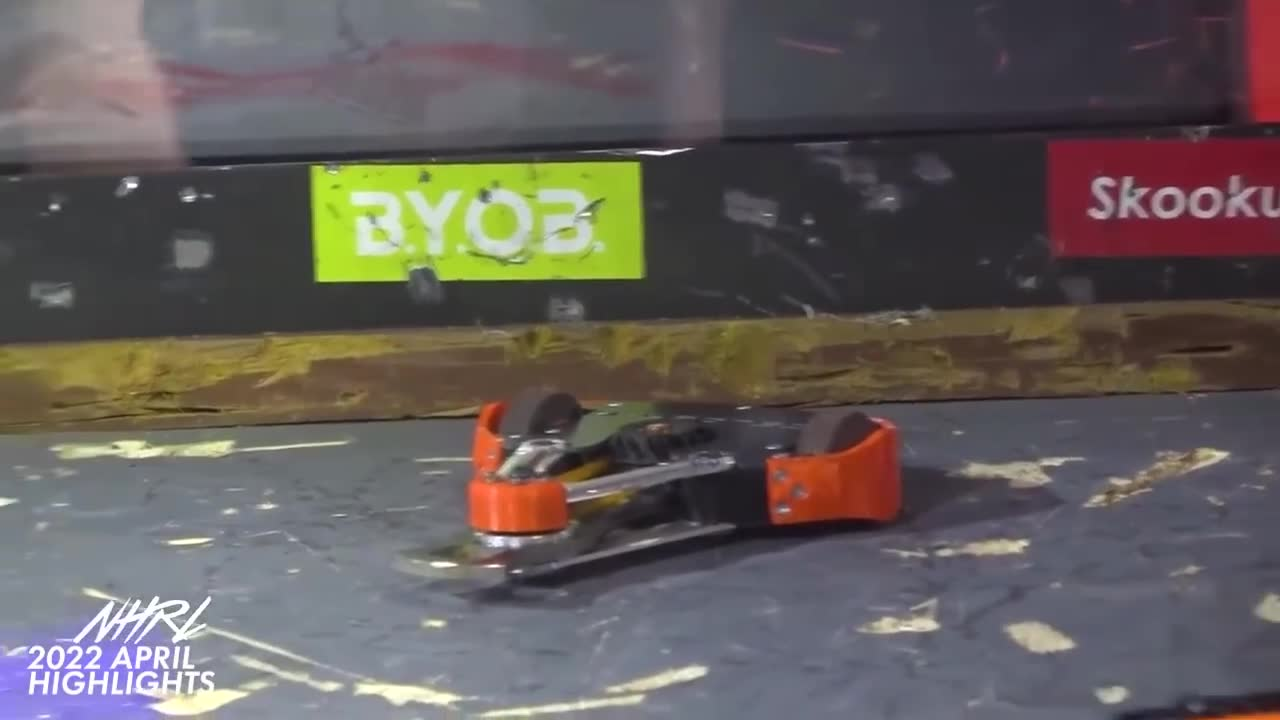combatbot: (461, 386, 902, 549)
